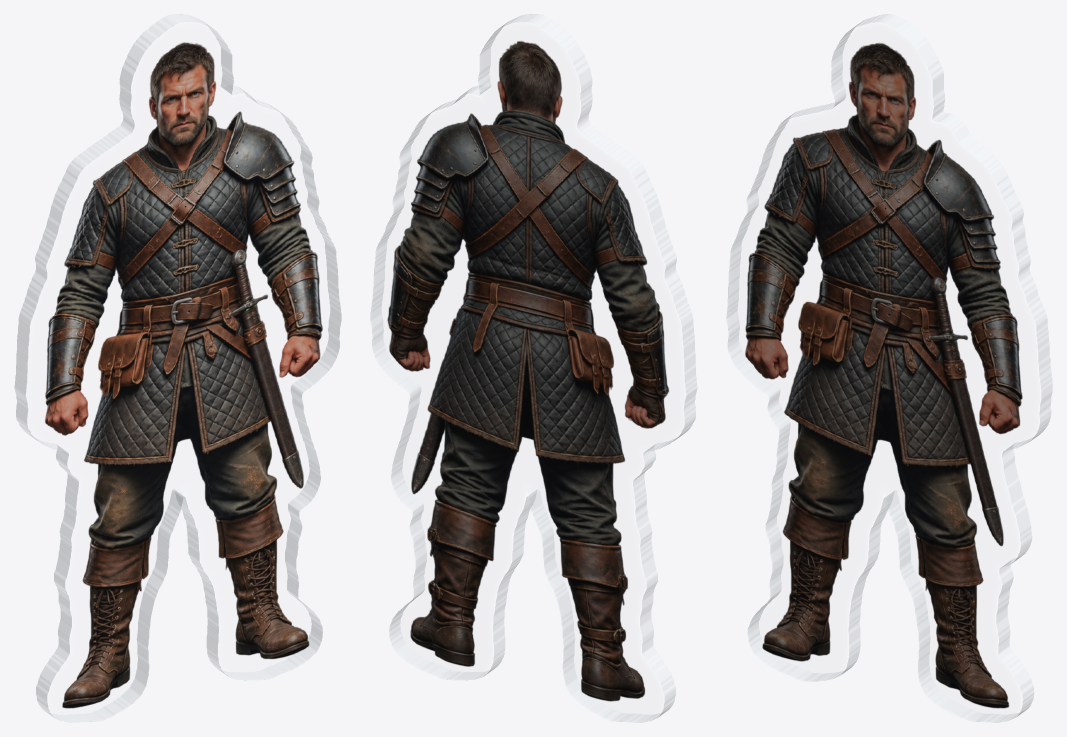
File: gareth-sheathed.glb
The picture shows the model from 3 angles, left to right: view 1: azimuth 30°, elevation 25°; view 2: azimuth 150°, elevation 25°; view 3: azimuth 330°, elevation 25°; orthographic projection.
Visible parts, largest first — view 1: preview_standee; view 2: preview_standee; view 3: preview_standee.
Part boxes in pixels (x1=…): preview_standee: x1=14, y1=14, x2=341, y2=722; preview_standee: x1=370, y1=14, x2=697, y2=722; preview_standee: x1=726, y1=14, x2=1052, y2=722.
Size of the model in its own units: 0.6337 by 1.3 by 0.04.
Materials: 3 (2 with a texture image).
